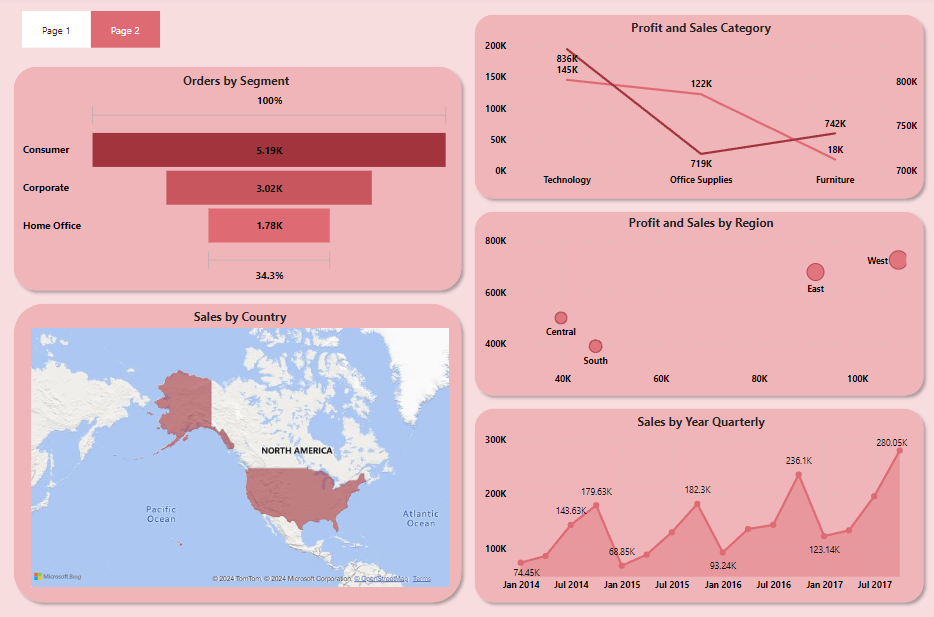

This screenshot's page, from the dashboard's own definition file:
{"tool":"powerbi","page":{"name":"Page 2","canvas":[1280,850],"ordinal":1},"visuals":[{"type":"shape","box":[640.2,15,629.3,268.3],"z":0},{"type":"shape","box":[640.2,283.3,629.3,268.3],"z":1000},{"type":"shape","box":[640.2,551.7,629.3,282],"z":2000},{"type":"lineChart","title":"Profit and Sales Category","fields":{"Y2":["Sum(Sample - Superstore.Sales)"],"Category":["Sample - Superstore.Category"],"Y":["Sum(Sample - Superstore.Profit)"]},"box":[657.9,31.3,599.4,235.7],"z":3000},{"type":"areaChart","title":"Sales by Year Quarterly","fields":{"Category":["Sample - Superstore.Order Date.Variation.Date Hierarchy.Year","Sample - Superstore.Order Date.Variation.Date Hierarchy.Quarter"],"Y":["Sum(Sample - Superstore.Sales)"]},"box":[657.9,568,599.4,250.6],"z":4000},{"type":"scatterChart","title":"Profit and Sales by Region","fields":{"Category":["Sample - Superstore.Region"],"Y":["Sum(Sample - Superstore.Sales)"],"X":["Sum(Sample - Superstore.Profit)"],"Size":["Sum(Sample - Superstore.Profit)"]},"box":[657.9,297,599.4,241.1],"z":5000},{"type":"shape","box":[12.3,408.7,628,425],"z":6000},{"type":"filledMap","title":"Sales by Country ","fields":{"Series":["Sample - Superstore.Category"],"Category":["Sample - Superstore.Country"]},"box":[39.5,425,580.3,384.1],"z":7000},{"type":"shape","box":[12.3,85.8,628,322.8],"z":8000},{"type":"funnel","title":"Orders by Segment","fields":{"Category":["Sample - Superstore.Segment"],"Y":["CountNonNull(Sample - Superstore.Dist. Orders)"]},"box":[28.6,103.5,591.2,291.5],"z":9000},{"type":"pageNavigator","box":[32.7,19.1,94,50.4],"z":9001},{"type":"pageNavigator","box":[126.7,19.1,94,50.4],"z":9002}]}

Visuals, with their boxes in screenshot pixels (x1, y1, x2, y2), scaled from the page's 1280x850 canvas onto the 934x617 screenshot:
shape: [467,11,926,206]
shape: [467,206,926,400]
shape: [467,400,926,605]
"Profit and Sales Category" lineChart: [480,23,917,194]
"Sales by Year Quarterly" areaChart: [480,412,917,594]
"Profit and Sales by Region" scatterChart: [480,216,917,391]
shape: [9,297,467,605]
"Sales by Country " filledMap: [29,308,452,587]
shape: [9,62,467,297]
"Orders by Segment" funnel: [21,75,452,287]
pageNavigator: [24,14,92,50]
pageNavigator: [92,14,161,50]
